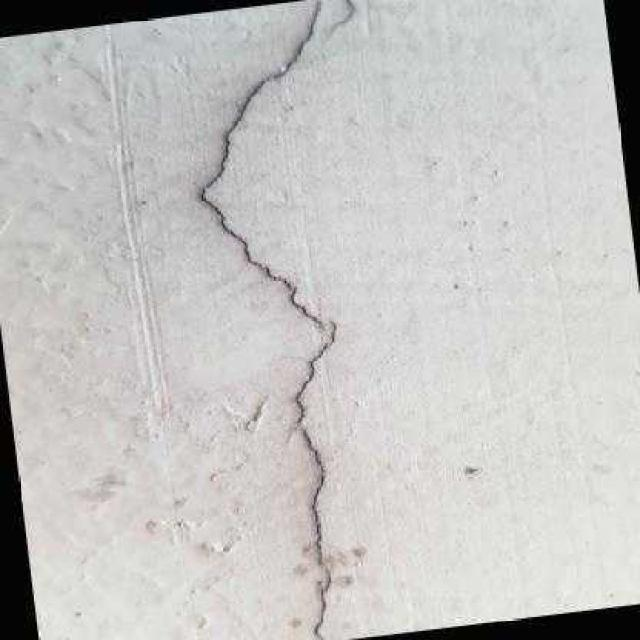D00: (195, 0, 357, 640)
